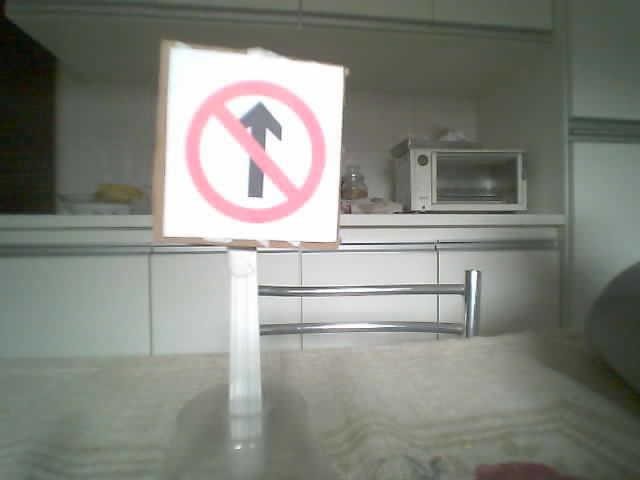R-3_sentido-proibido: (184, 78, 326, 223)
